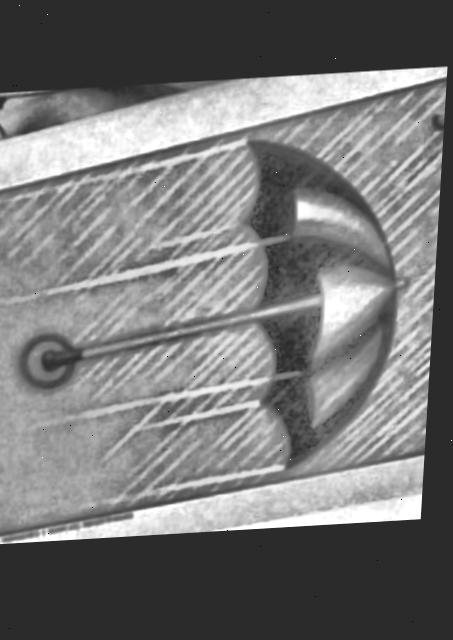El Paraguas: (0, 84, 448, 540)
